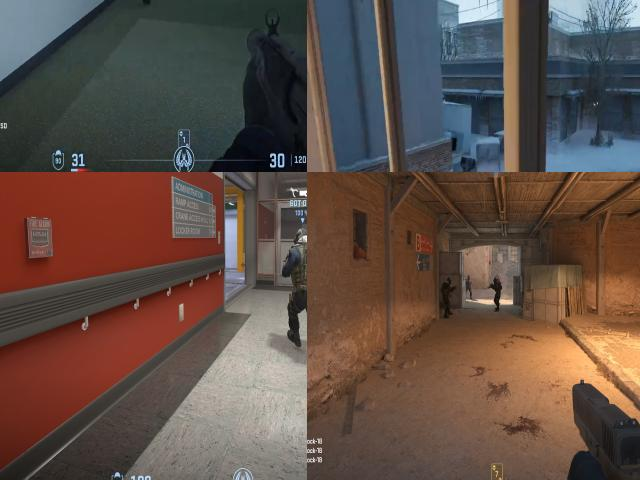CT: (290, 229, 307, 350), (440, 275, 452, 320), (491, 278, 502, 309), (465, 273, 472, 298)
CT-Head: (293, 230, 307, 250), (446, 277, 452, 283), (493, 278, 497, 282), (468, 276, 470, 278)
